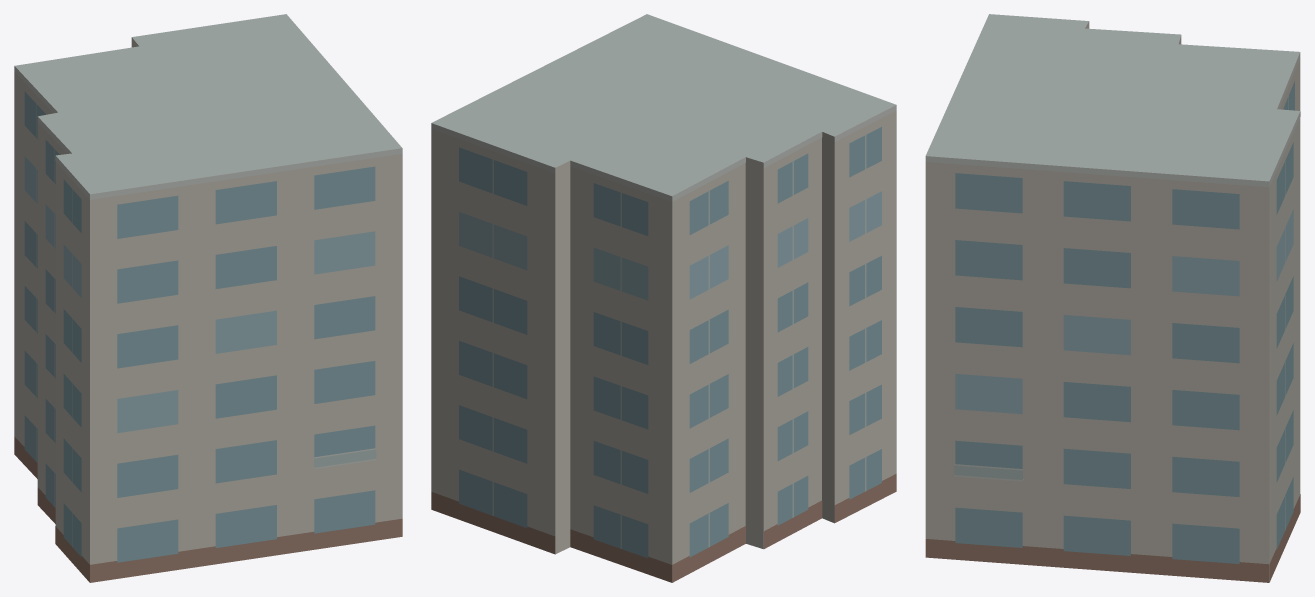
File: survey-upis-33000913.glb
3 views of the same model, side by side, from view 1: azimuth 30°, elevation 25°; view 2: azimuth 150°, elevation 25°; view 3: azimuth 270°, elevation 25° (orthographic). The views are drawn at different scales.
Parts seen in each view (by area): view 1: survey-upis-33000913.tmp; view 2: survey-upis-33000913.tmp; view 3: survey-upis-33000913.tmp.
Boxes of the visible parts, x1,y1,x2,y2 form: survey-upis-33000913.tmp: (14,14,402,582); survey-upis-33000913.tmp: (431,14,896,582); survey-upis-33000913.tmp: (925,14,1300,582).
Bounding box in the file's own units: 15.04 × 16.8 × 14.23.
